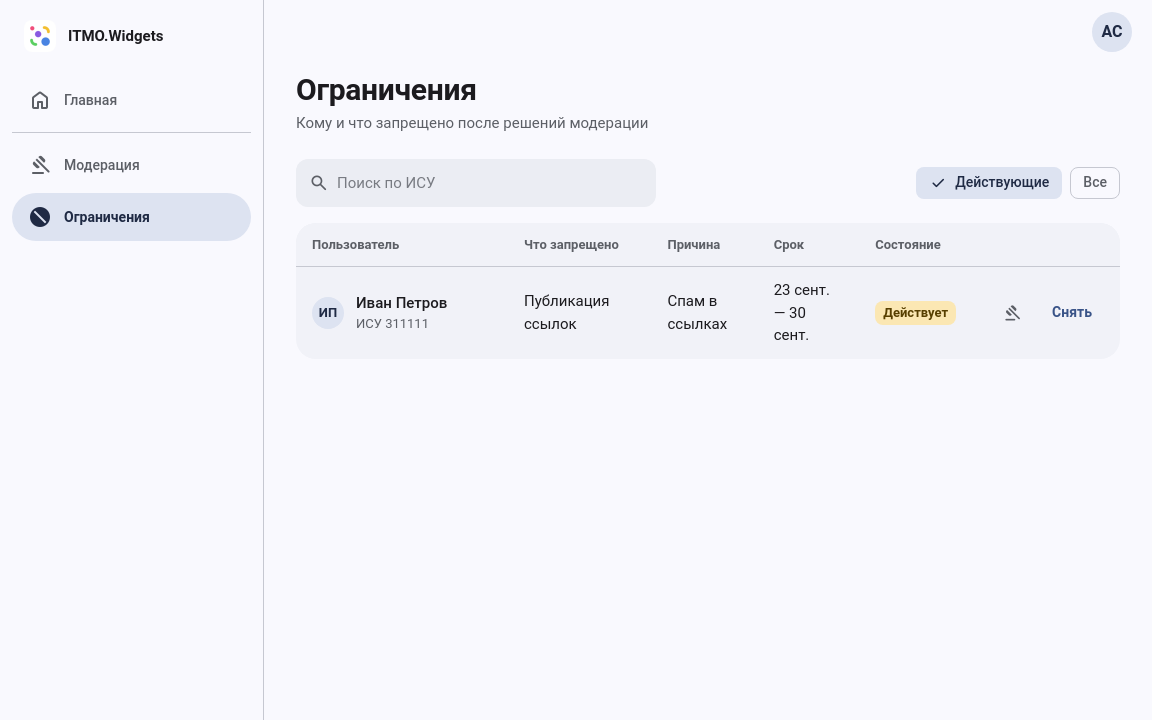
it: RestrictionsPage › includes ended restrictions under «Все»
Expected: the row "Иван Петров" is shown, [296, 267, 1120, 358]
Click the button "Все": (1095,182) [1070, 166, 1120, 198]
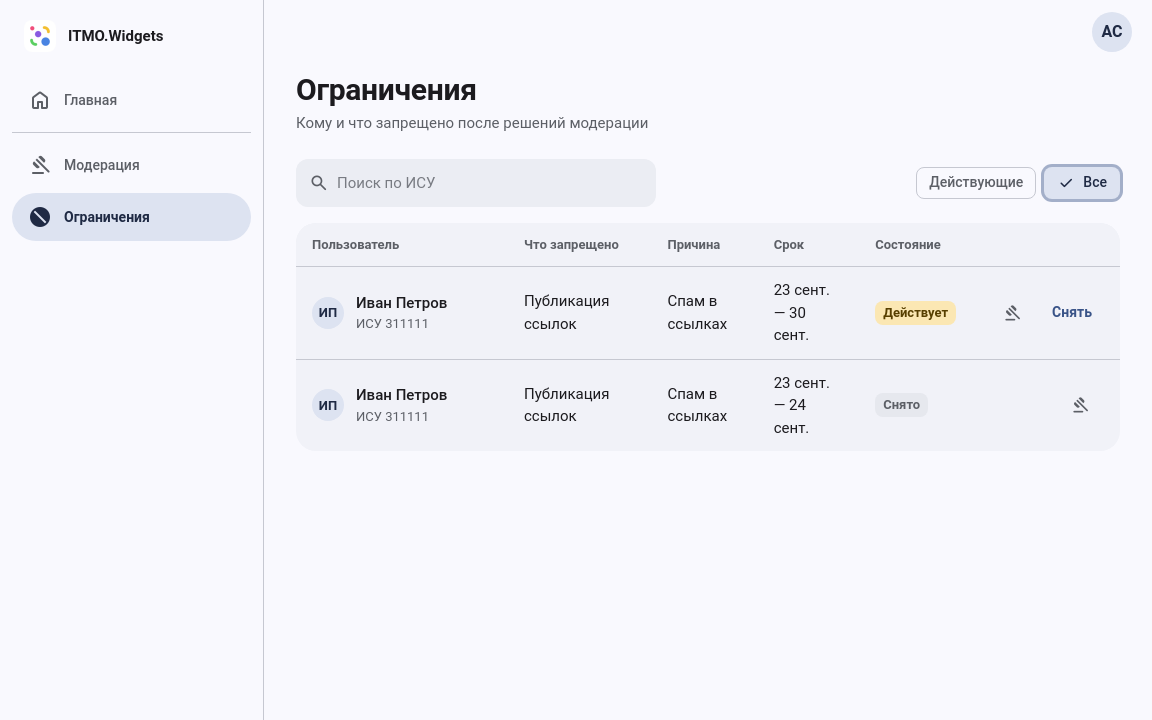
Expected: the text "Снято" is shown, [875, 393, 928, 417]
